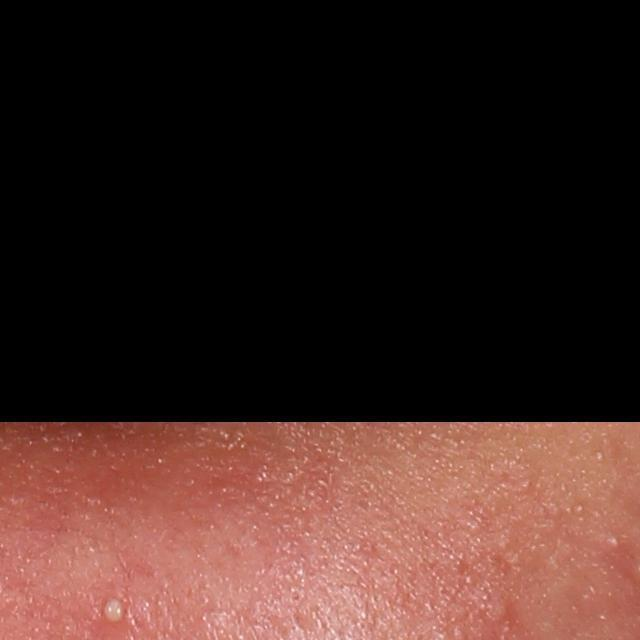papule: (480, 595, 516, 625)
pustule: (98, 597, 123, 626)
